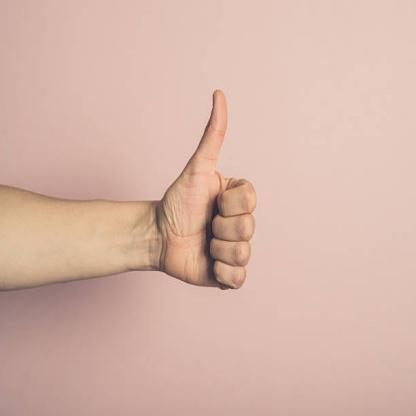thumb_up: (160, 82, 258, 294)
